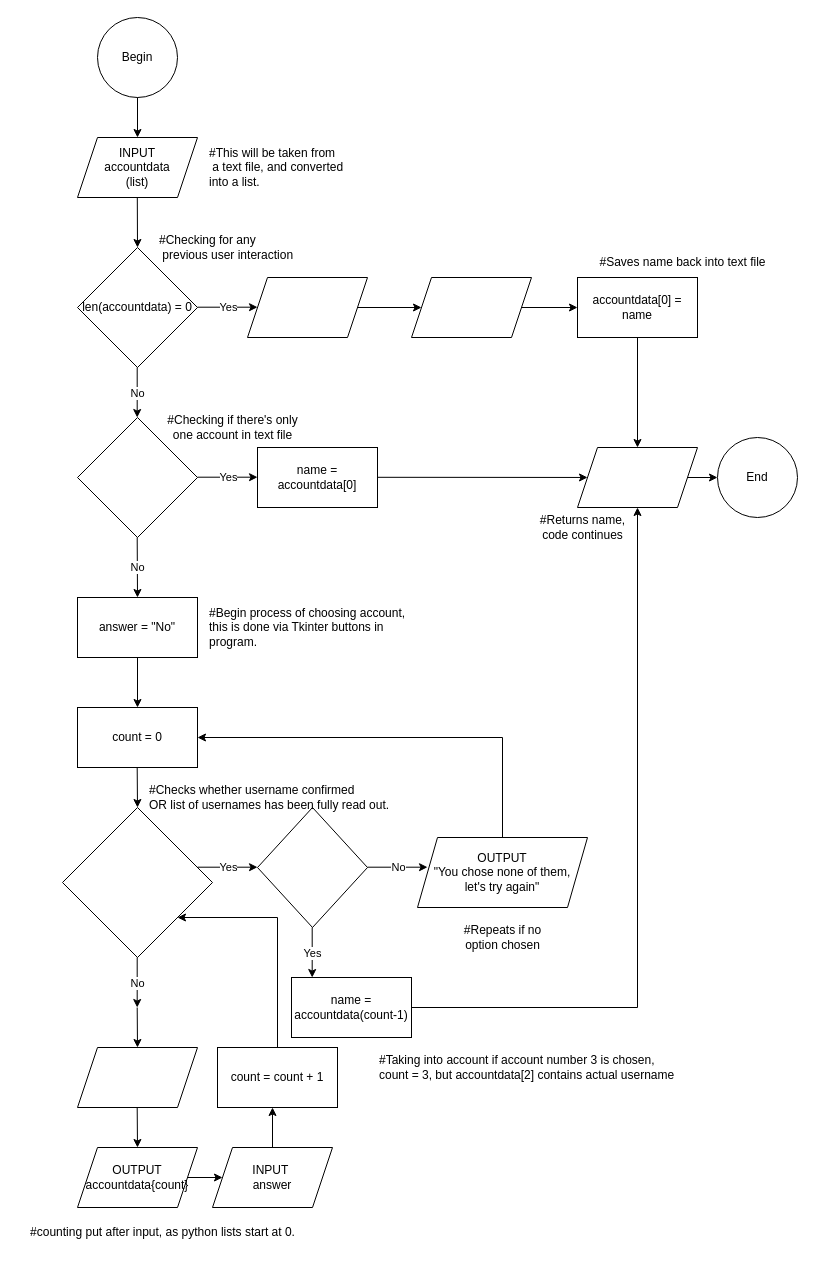
The diagram is 815 pixels wide and 1265 high, and some of its shapes have lost their labels. The shapes that lost their labels are listed below. From the top down, each one's centre as x and y in pixels, then its label:
the point at 307,307: OUTPUT "No Users Detected"
the point at 471,307: INPUT name
the point at 137,477: len(accountdata) == 1
the point at 637,477: OUTPUT name
the point at 137,882: answer == "Yes" OR count == len(accountdata)
the point at 312,867: answer == "Yes"
the point at 137,1077: OUTPUT "Is this your name?"
